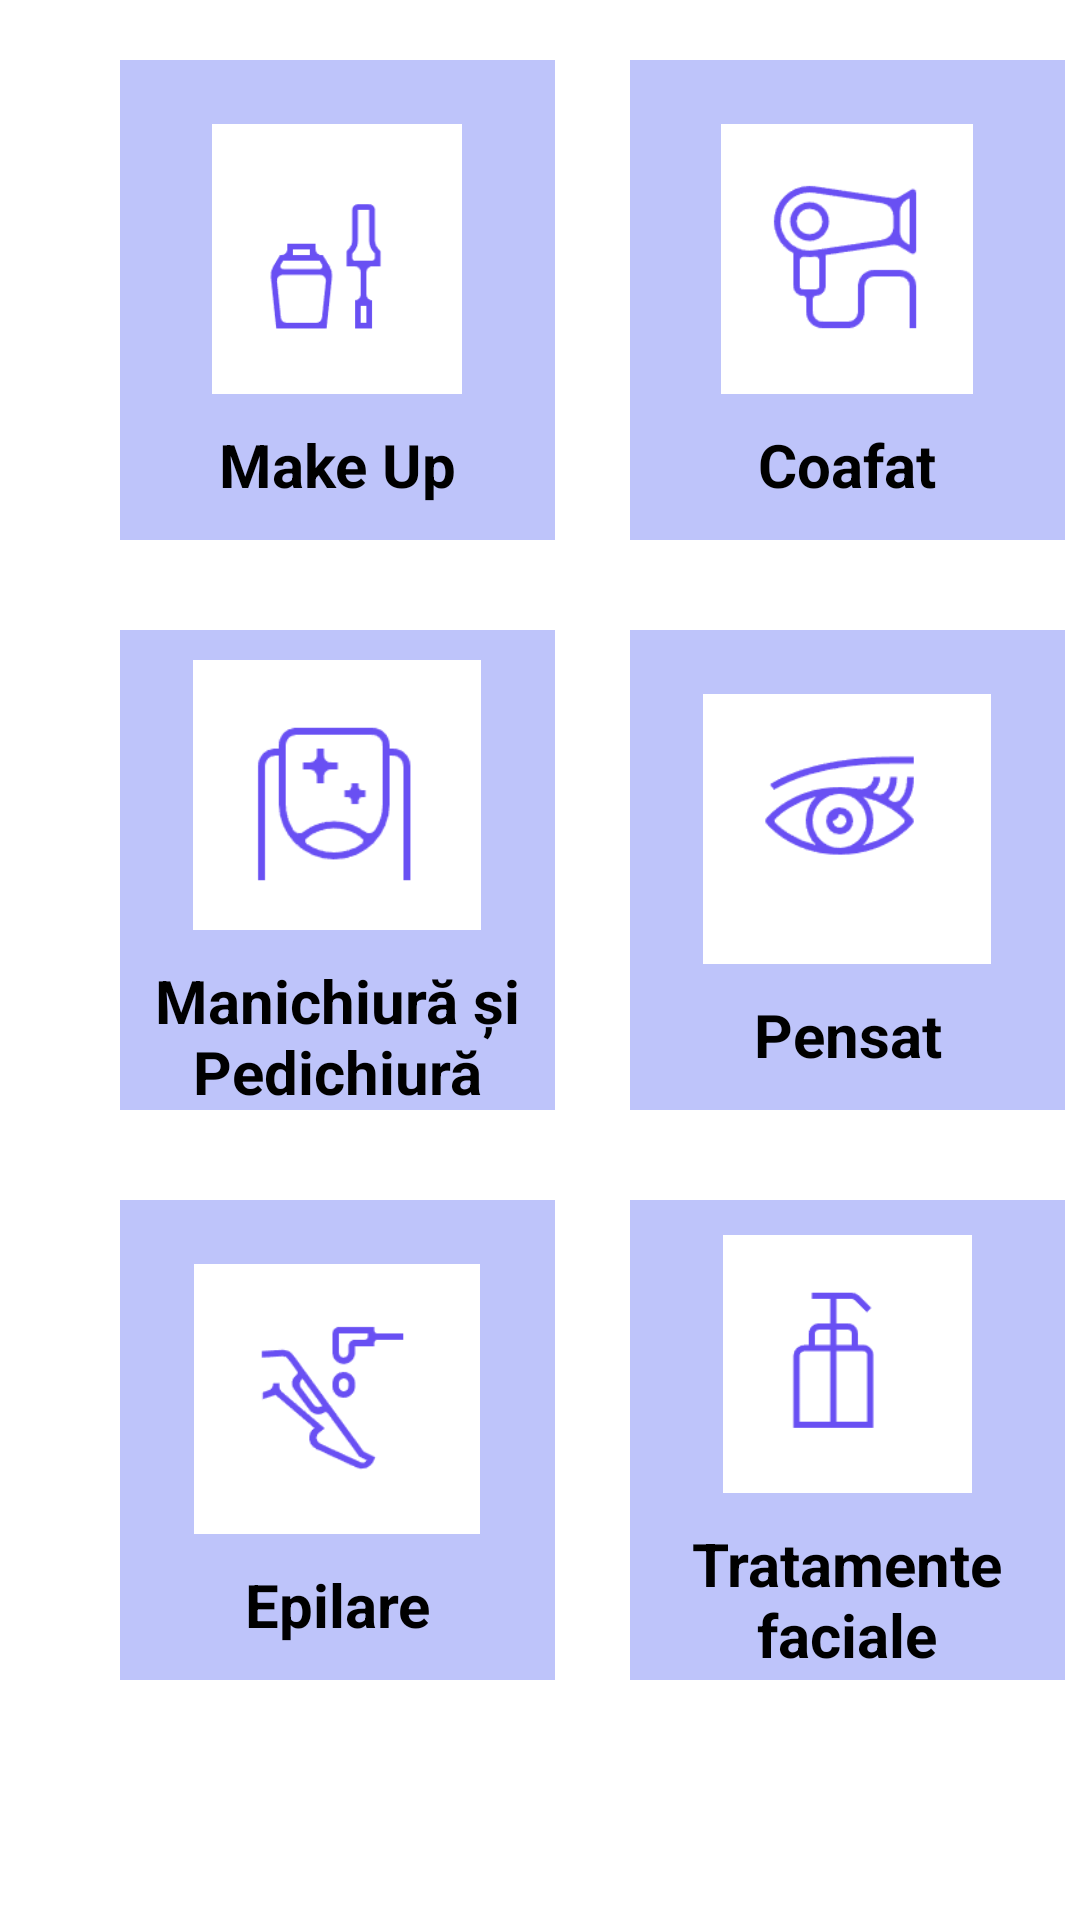

Locate icon controls on the screen. Image size 1080px×1920px, boxes as box(x1, y1, x2, y2).
feon: box(721, 124, 973, 394)
sprancene: box(703, 694, 991, 964)
unghie: box(193, 660, 481, 930)
